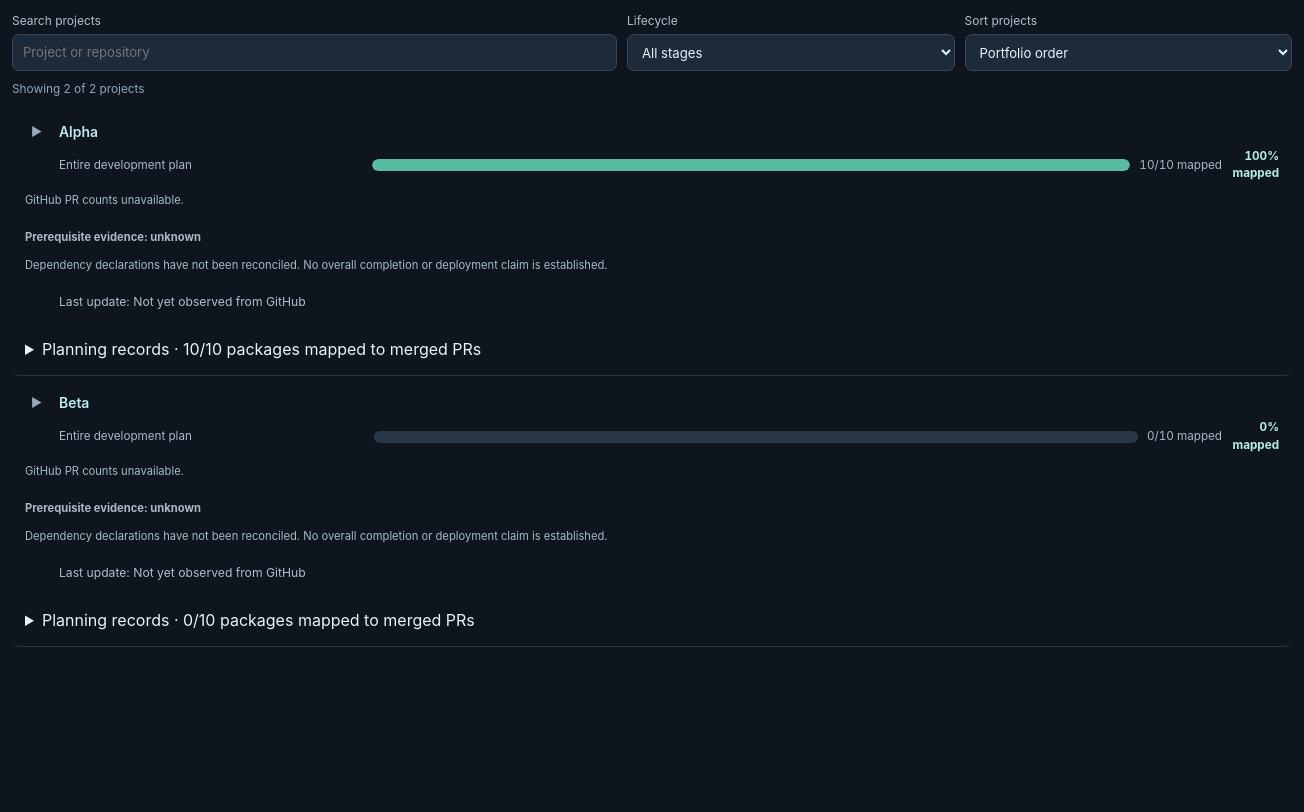
Test case: portfolio controls › filters rows, reports matches, and can clear a no-match search
Type "Beta" into the search field labelled "Search projects" at (314,52), box [12,34,617,71]
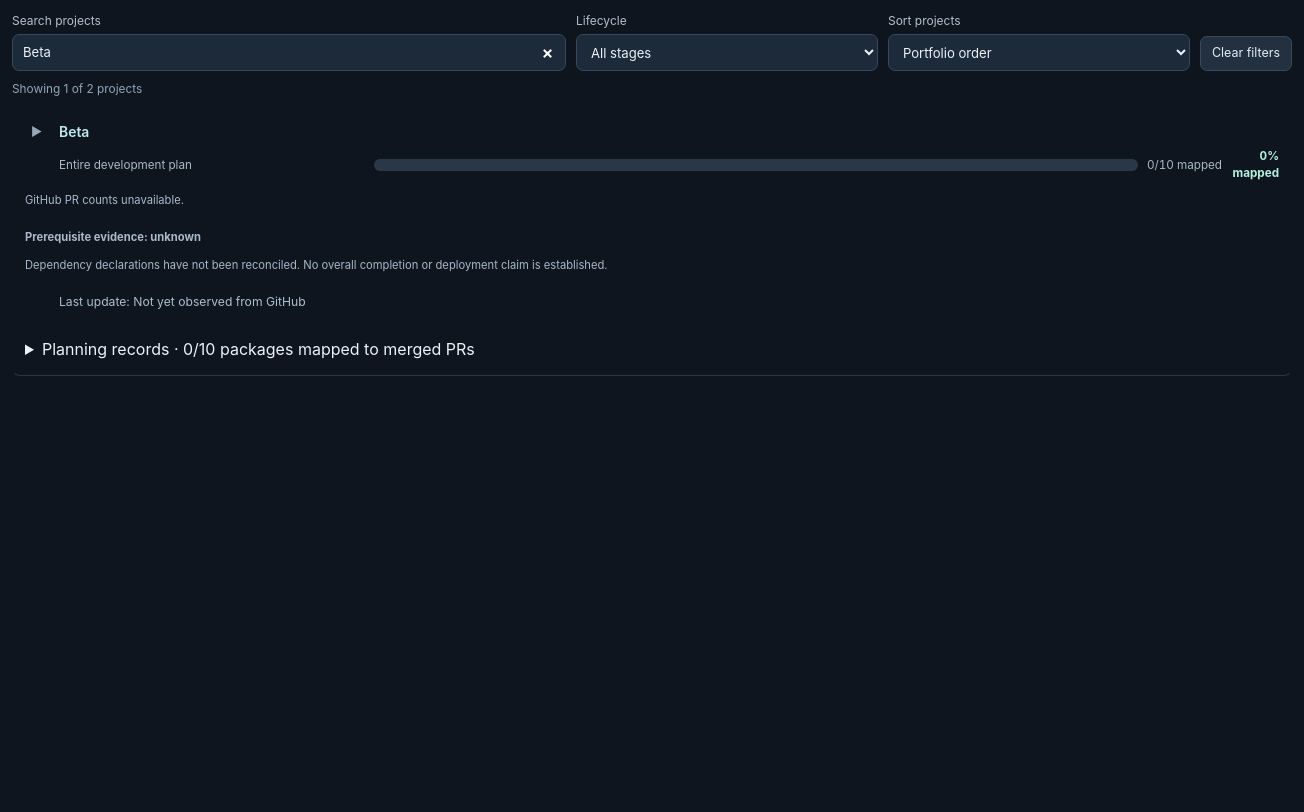
Check: the button named "Expand Beta" is shown, box [25,121,48,144]
Select "live" in the dropdown labelled "Lifecycle" at (727,52), box [576,34,878,71]
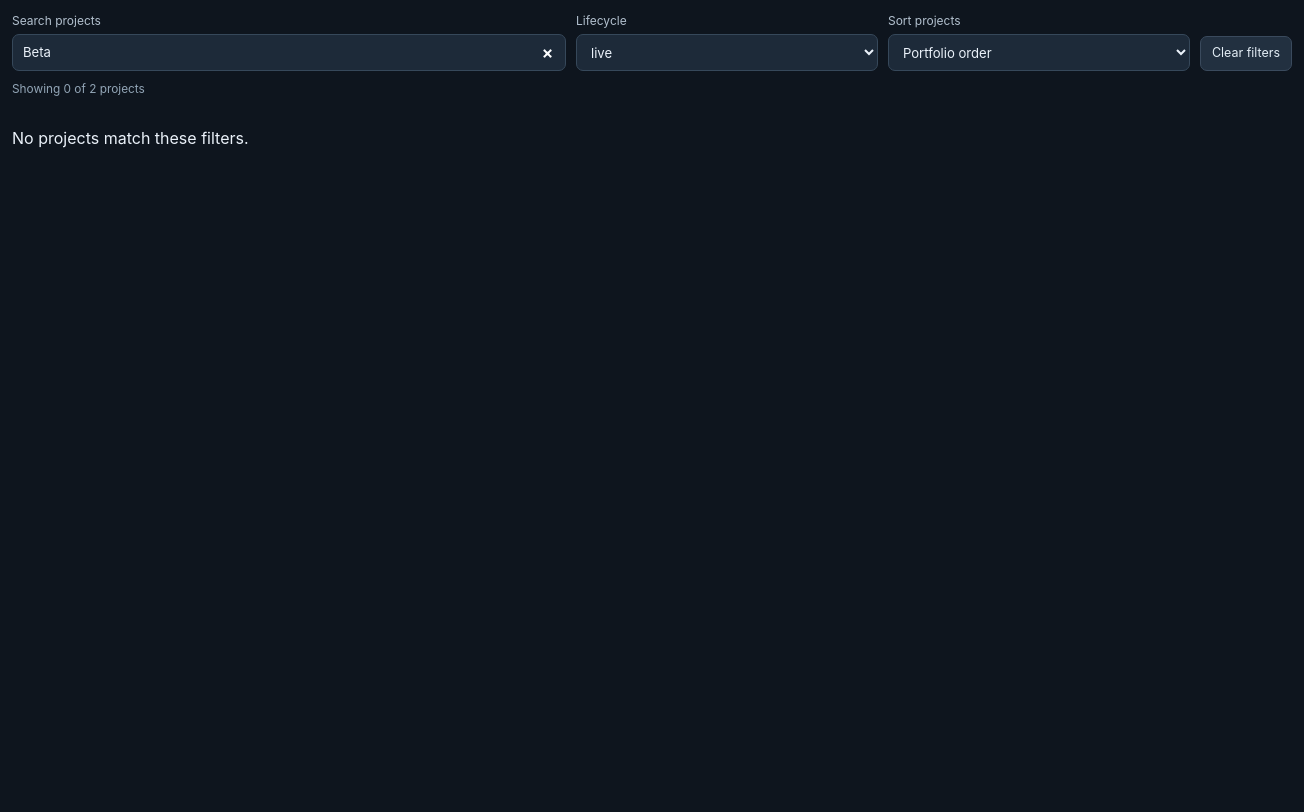
Check: the text "No projects match these filters." is shown, box [12,128,248,148]
Click the button "Clear filters" at (1246,54), box [1200,36,1292,71]
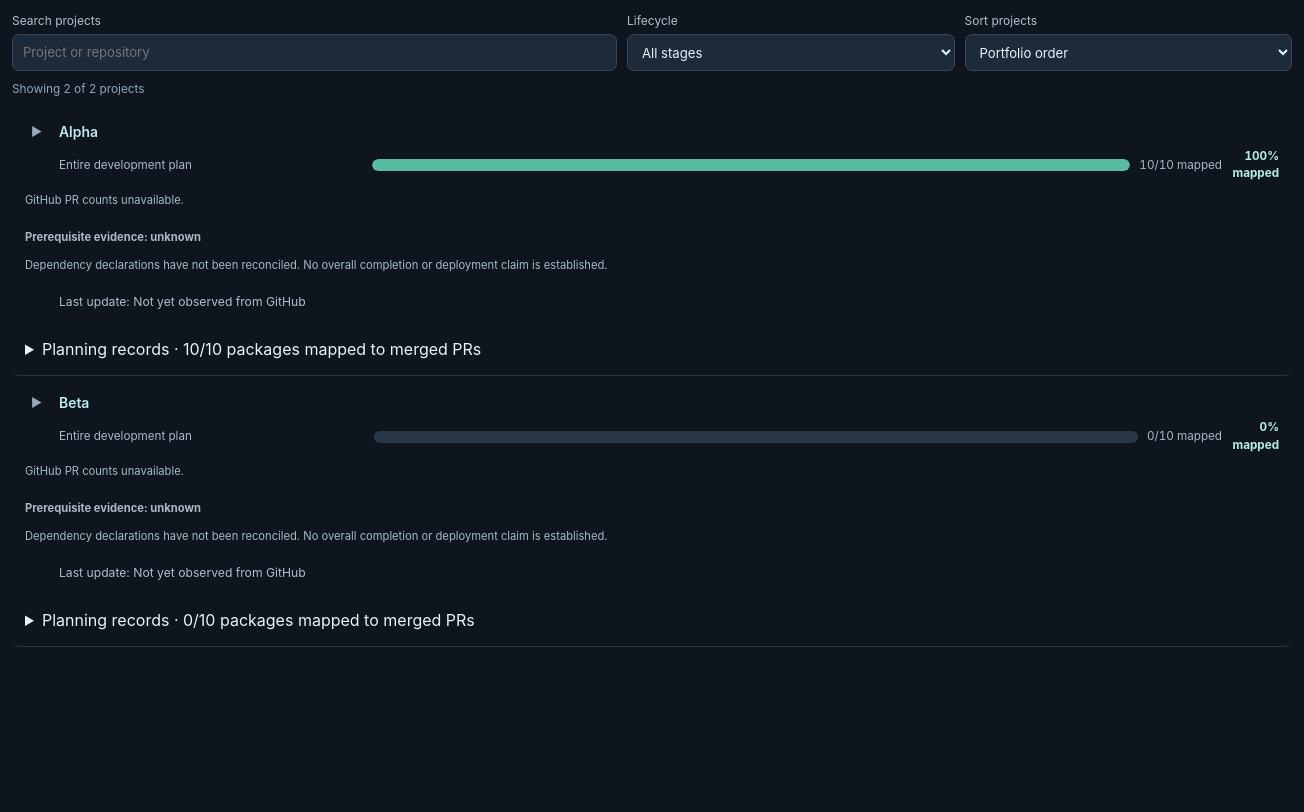
Check: the text "Showing 2 of 2 projects" is shown, box [12,82,145,96]
